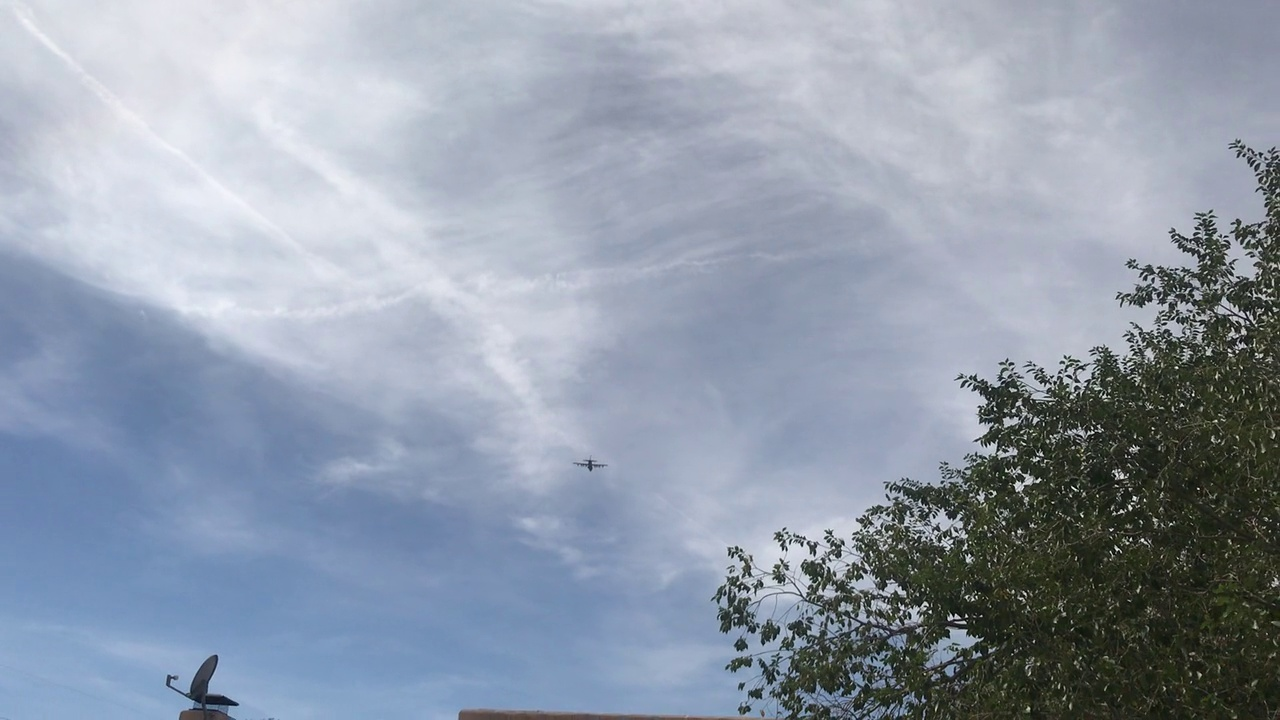plane: (572, 455, 608, 471)
